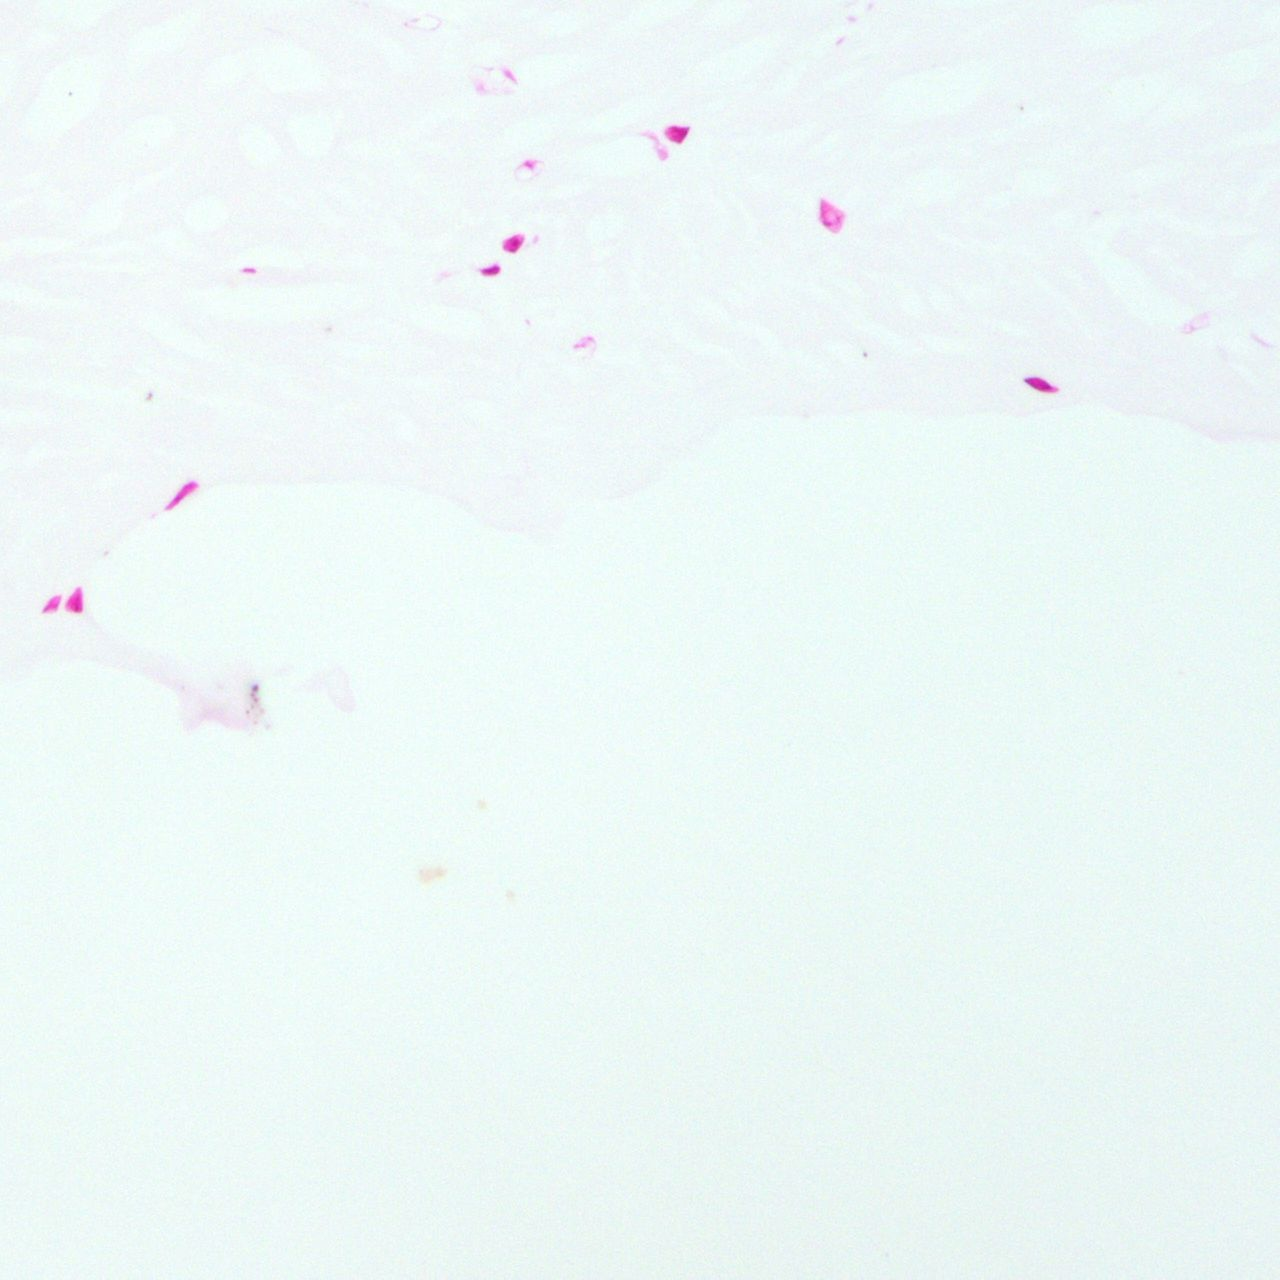dust: (417, 865, 445, 885), (476, 799, 486, 811), (505, 888, 515, 898), (863, 350, 867, 356), (1020, 105, 1023, 109)
nucleus-FG: (161, 477, 200, 513), (663, 118, 692, 147), (1023, 372, 1055, 395), (503, 231, 527, 254), (482, 266, 501, 275)
